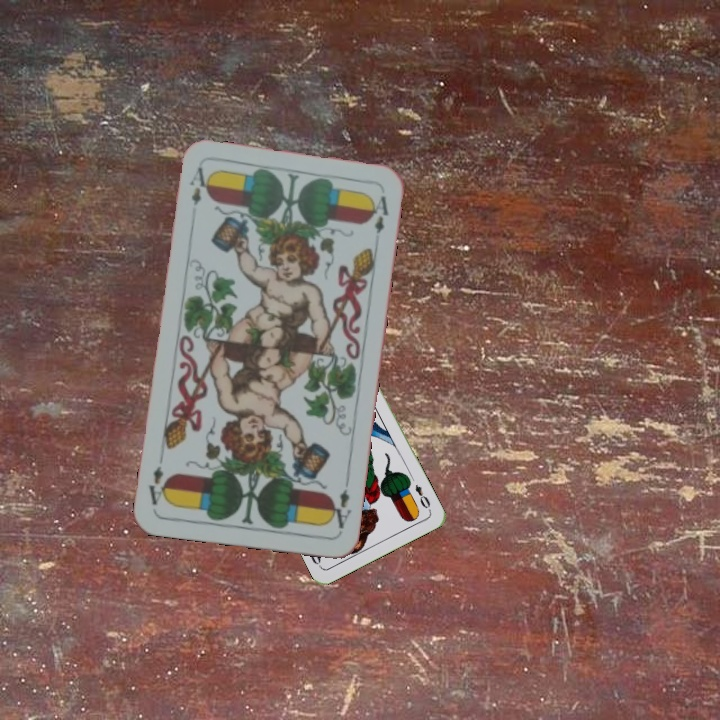EA: (325, 484, 354, 532), (186, 163, 210, 208)
EO: (411, 480, 433, 514)
